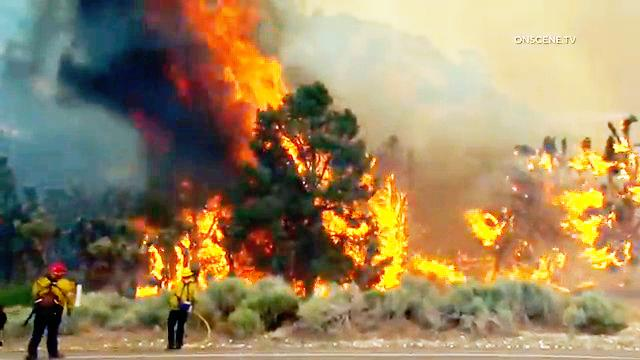fire: (331, 185, 413, 287)
smoke: (372, 5, 488, 164), (79, 9, 275, 92)
